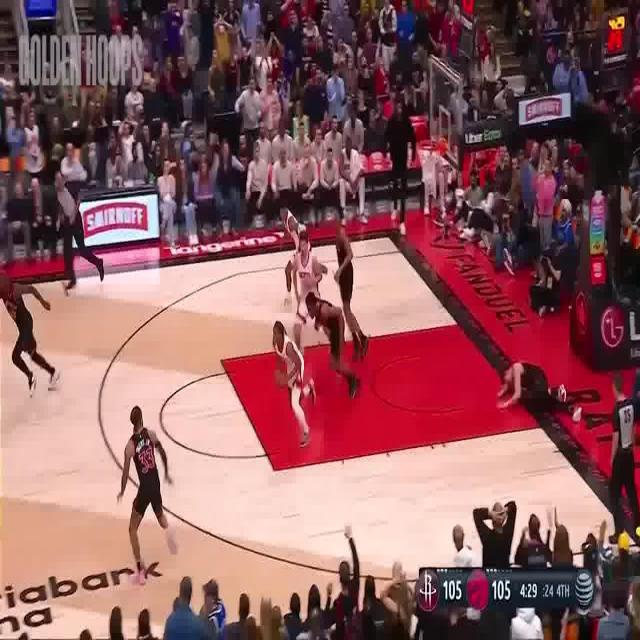ball-handler: (264, 318, 318, 452)
